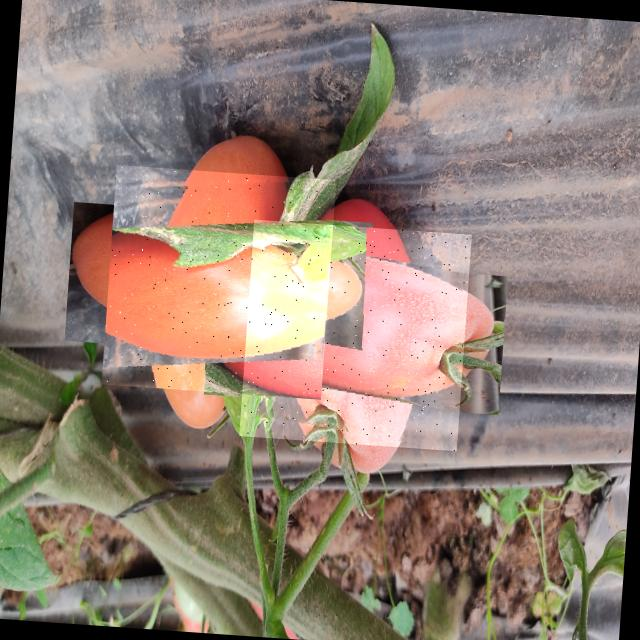Ripe Tomato: (100, 164, 336, 400), (238, 219, 472, 451)
